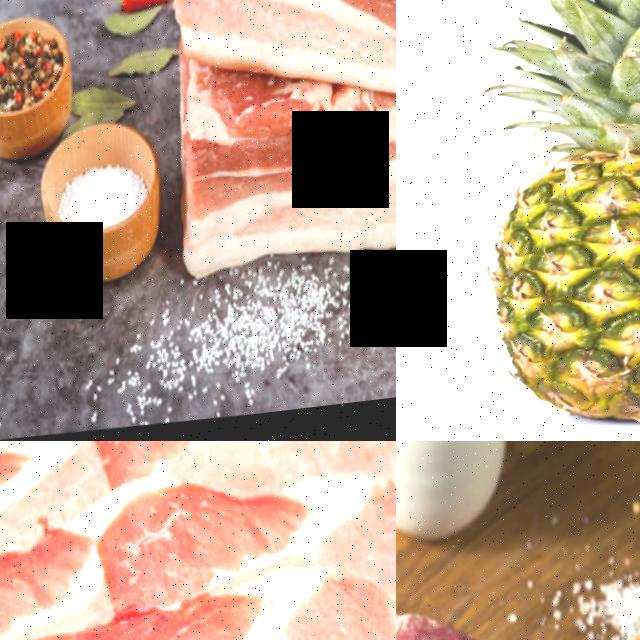pineapple: (466, 54, 640, 441)
pork belly: (163, 40, 396, 273), (84, 458, 396, 627), (23, 568, 396, 640), (160, 0, 396, 102), (0, 441, 102, 640), (396, 586, 629, 640), (72, 441, 347, 486)
